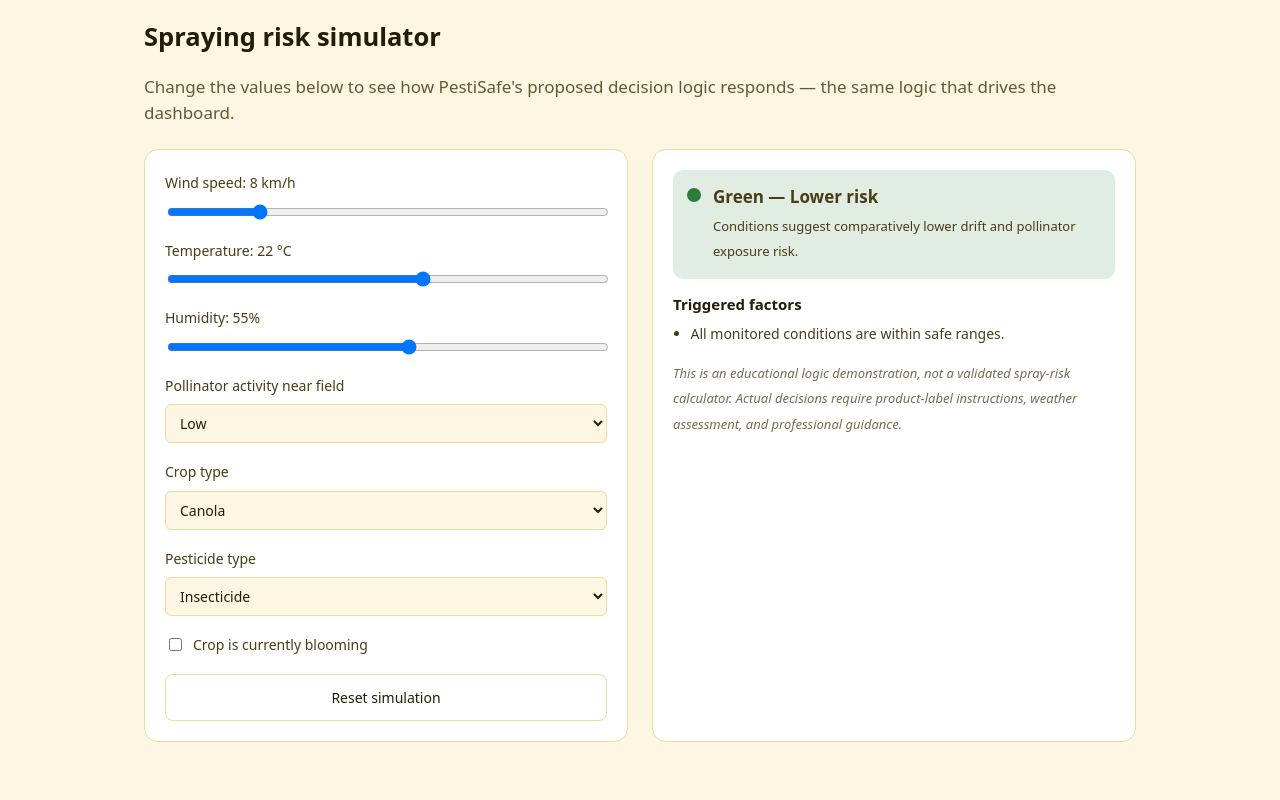
Test: RiskSimulator › escalates to RED when wind speed is dragged to a high-risk value
Set the slider labelled "Wind speed: 8 km/h" to "20" at coordinates (388, 212), box x1=167 y1=204 x2=609 y2=220
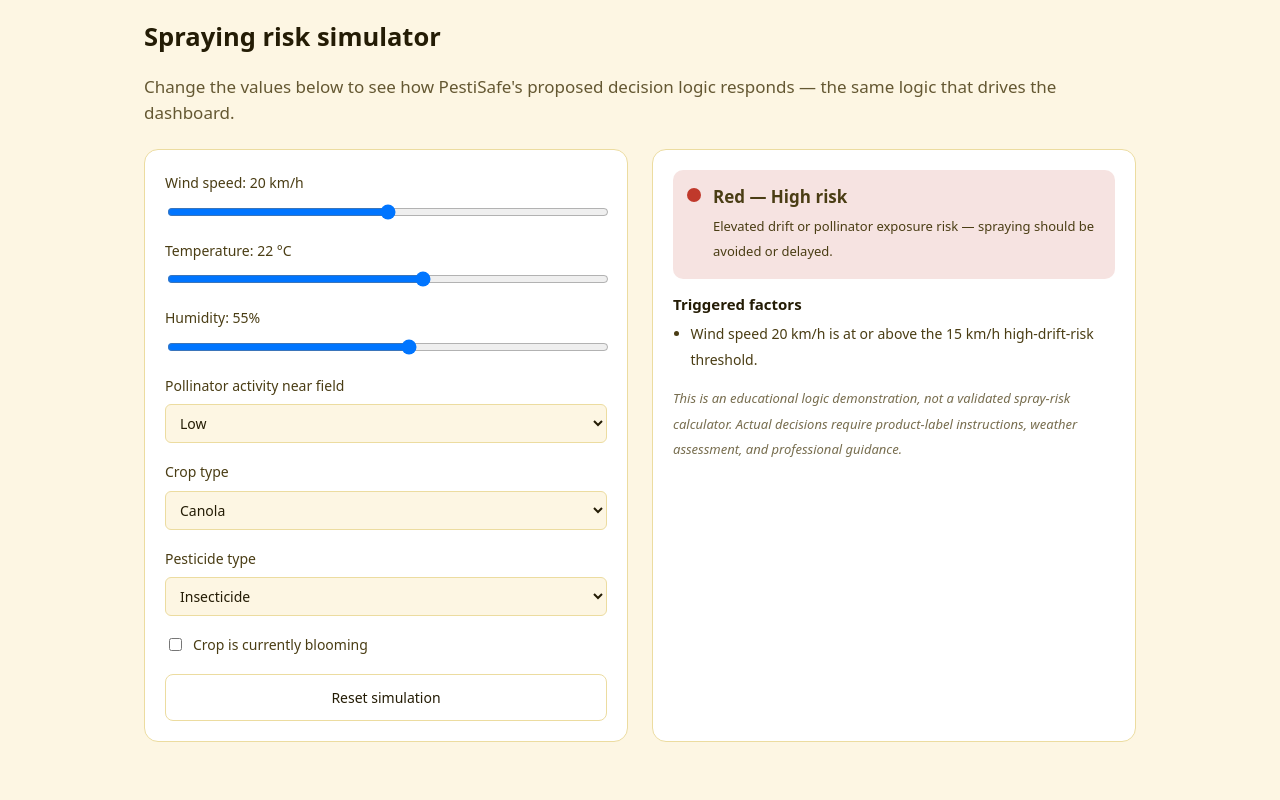
Now the list item "Wind speed 20 km/h" is shown, box x1=690 y1=324 x2=1094 y2=369
